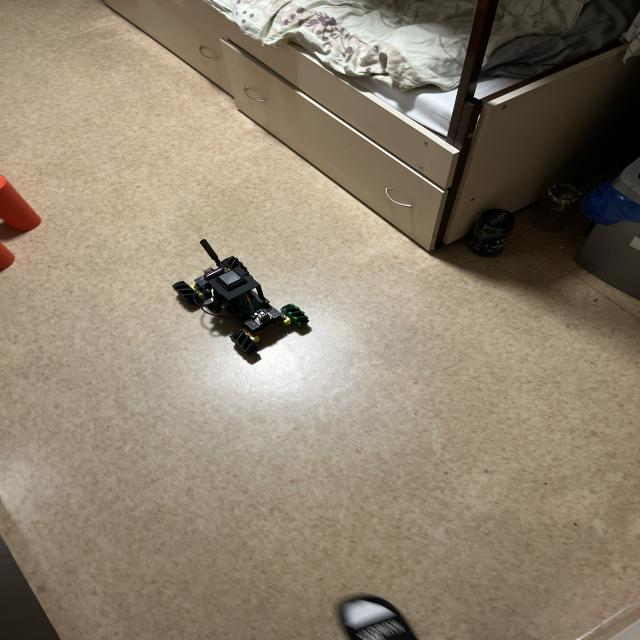robot: (172, 239, 309, 354)
